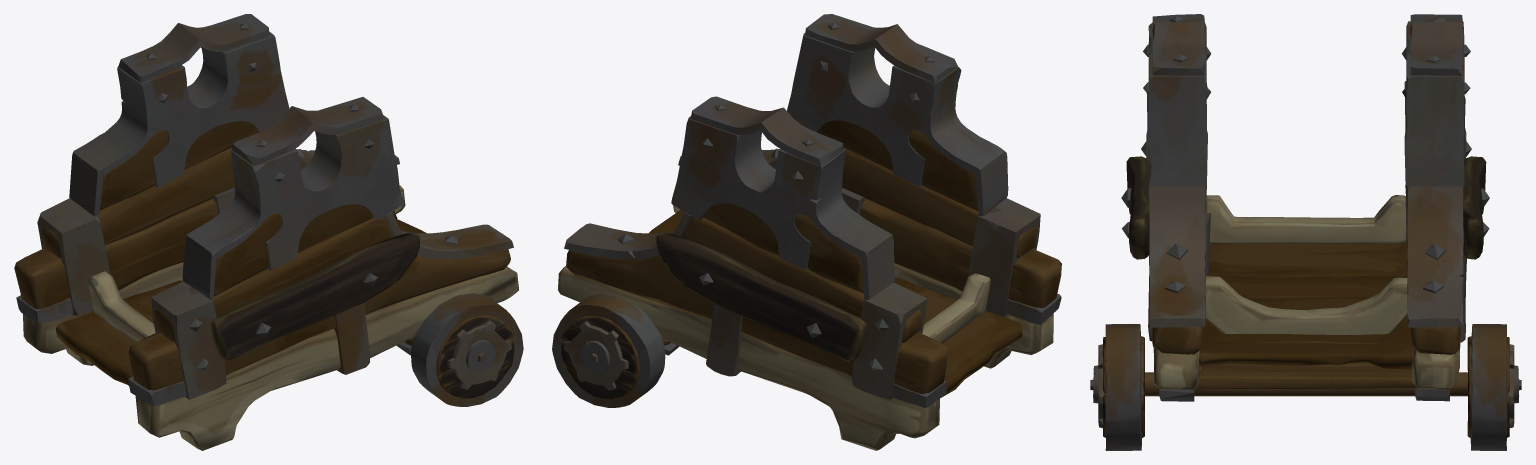
File: cannon_base.glb
3 renders of one model, left to right at view 1: azimuth 30°, elevation 25°; view 2: azimuth 150°, elevation 25°; view 3: azimuth 270°, elevation 25°, orthographic. The views are drawn at different scales.
Parts seen in each view (by area): view 1: shp_cannonbox_ske_01_a_v02.001; view 2: shp_cannonbox_ske_01_a_v02.001; view 3: shp_cannonbox_ske_01_a_v02.001.
Part boxes in pixels (x1,y1,x2,y2): shp_cannonbox_ske_01_a_v02.001: [14, 14, 523, 450]; shp_cannonbox_ske_01_a_v02.001: [552, 14, 1061, 450]; shp_cannonbox_ske_01_a_v02.001: [1090, 14, 1521, 450].
Bounding box in the file's own units: 157 × 121 × 137.
Materials: 1 (1 with a texture image).
